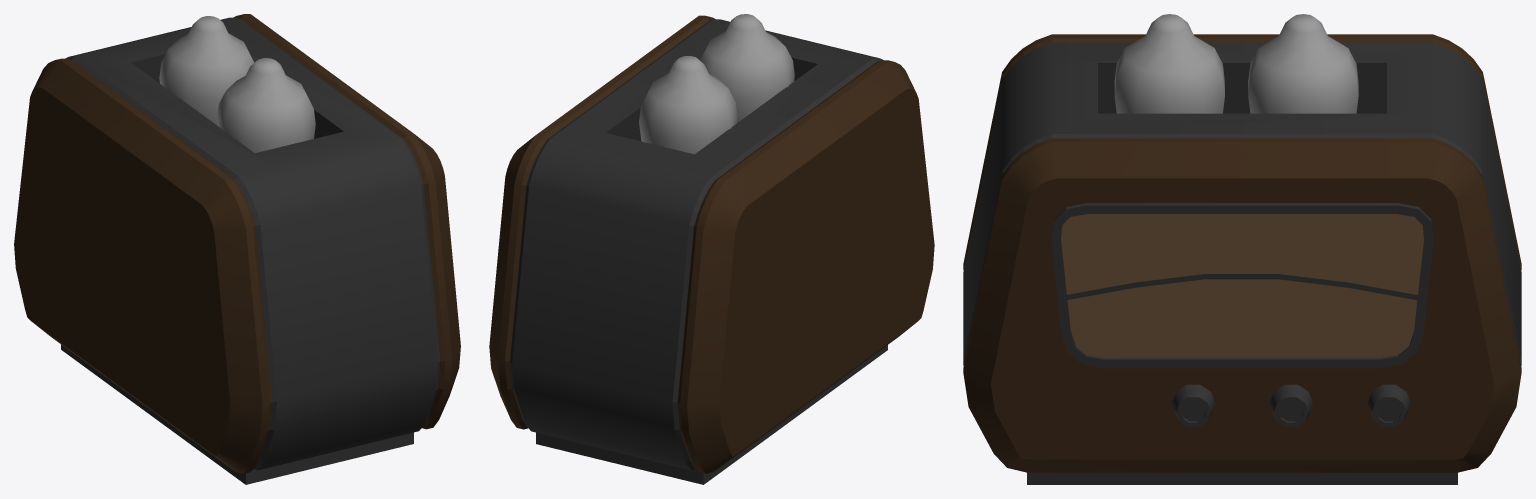
The model's file is Radio.FBX.
The picture shows the model from 3 angles, left to right: view 1: azimuth 30°, elevation 25°; view 2: azimuth 150°, elevation 25°; view 3: azimuth 270°, elevation 25°; orthographic projection. The views are drawn at different scales.
Parts seen in each view (by area): view 1: Box015; view 2: Box015; view 3: Box015.
Boxes of the visible parts, x1,y1,x2,y2 form: Box015: (14, 14, 460, 484); Box015: (489, 14, 934, 484); Box015: (963, 14, 1521, 484).
Bounding box in the file's own units: 7.32 × 10.17 × 12.36.
